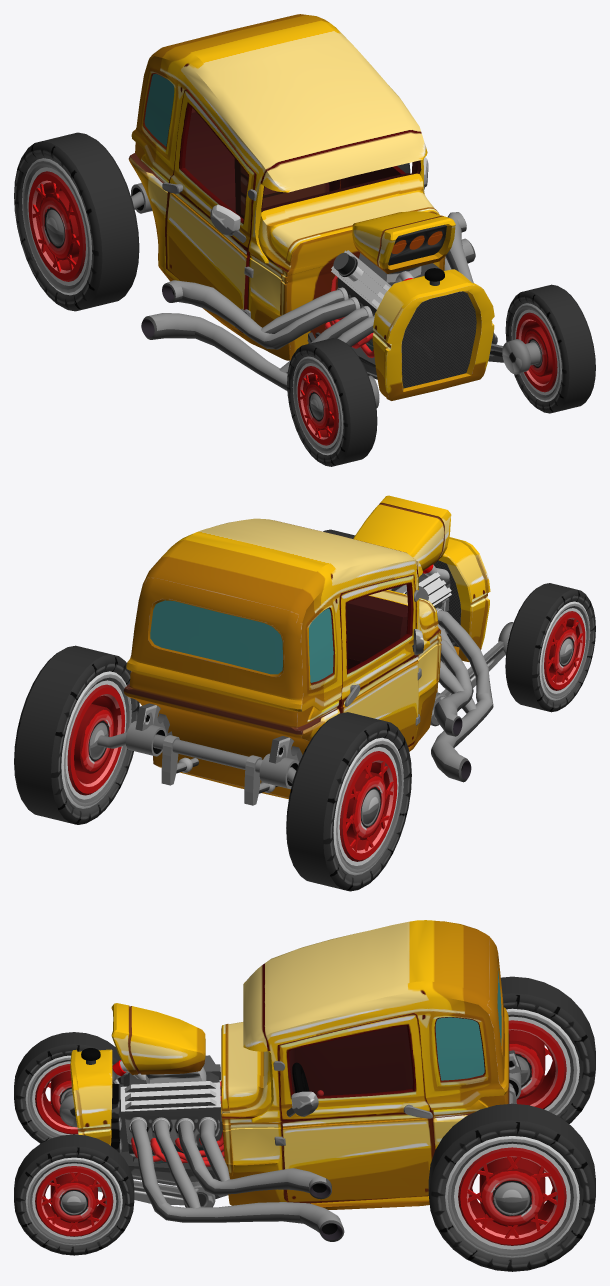
File: HCR2_Hot_Rod.fbx
The picture shows the model from 3 angles, top to bottom: view 1: azimuth 30°, elevation 25°; view 2: azimuth 150°, elevation 25°; view 3: azimuth 270°, elevation 25°; orthographic projection. The views are drawn at different scales.
Visible parts, largest first — view 1: HCR2_HotRod_Body, HCR2_HotRod_RR_Wheel, HCR2_HotRod_Body_Front, HCR2_HotRod_Door_Right, HCR2_HotRod_FR_Wheel, HCR2_HotRod_FL_Wheel, HCR2_HotRod_Exhausts, HCR2_HotRod_Exhausts2, HCR2_HotRod_Interior, HCR2_HotRod_Scoop, HCR2_HotRod_Engine, HCR2_HotRod_Windows (+2 smaller); view 2: HCR2_HotRod_Body, HCR2_HotRod_RR_Wheel, HCR2_HotRod_RL_Wheel, HCR2_HotRod_FR_Wheel, HCR2_HotRod_Windows, HCR2_HotRod_Door_Right, HCR2_HotRod_Rear_Susp, HCR2_HotRod_Scoop, HCR2_HotRod_Body_Front, HCR2_HotRod_Exhausts2, HCR2_HotRod_Interior, HCR2_HotRod_Exhausts (+3 smaller); view 3: HCR2_HotRod_Body, HCR2_HotRod_RL_Wheel, HCR2_HotRod_Door_Left, HCR2_HotRod_FL_Wheel, HCR2_HotRod_RR_Wheel, HCR2_HotRod_Engine, HCR2_HotRod_Exhausts2, HCR2_HotRod_Door_Right, HCR2_HotRod_FR_Wheel, HCR2_HotRod_Scoop, HCR2_HotRod_Body_Front, HCR2_HotRod_Exhausts (+2 smaller).
Boxes of the visible parts, x1=… form: HCR2_HotRod_Body: x1=128, y1=14, x2=445, y2=360; HCR2_HotRod_RR_Wheel: x1=14, y1=132, x2=139, y2=311; HCR2_HotRod_Body_Front: x1=307, y1=268, x2=494, y2=400; HCR2_HotRod_Door_Right: x1=162, y1=89, x2=256, y2=332; HCR2_HotRod_FR_Wheel: x1=287, y1=338, x2=377, y2=466; HCR2_HotRod_FL_Wheel: x1=505, y1=284, x2=595, y2=413; HCR2_HotRod_Exhausts: x1=162, y1=212, x2=473, y2=349; HCR2_HotRod_Exhausts2: x1=141, y1=238, x2=497, y2=390; HCR2_HotRod_Interior: x1=185, y1=108, x2=421, y2=218; HCR2_HotRod_Scoop: x1=352, y1=211, x2=455, y2=273; HCR2_HotRod_Engine: x1=325, y1=250, x2=439, y2=357; HCR2_HotRod_Windows: x1=144, y1=74, x2=174, y2=146; HCR2_HotRod_Body: x1=123, y1=518, x2=441, y2=799; HCR2_HotRod_RR_Wheel: x1=286, y1=712, x2=411, y2=891; HCR2_HotRod_RL_Wheel: x1=14, y1=645, x2=139, y2=824; HCR2_HotRod_FR_Wheel: x1=505, y1=583, x2=595, y2=712; HCR2_HotRod_Windows: x1=150, y1=600, x2=333, y2=682; HCR2_HotRod_Door_Right: x1=337, y1=574, x2=423, y2=747; HCR2_HotRod_Rear_Susp: x1=97, y1=721, x2=299, y2=805; HCR2_HotRod_Scoop: x1=353, y1=495, x2=451, y2=570; HCR2_HotRod_Body_Front: x1=433, y1=537, x2=490, y2=665; HCR2_HotRod_Exhausts2: x1=139, y1=610, x2=493, y2=782; HCR2_HotRod_Interior: x1=346, y1=595, x2=407, y2=669; HCR2_HotRod_Exhausts: x1=434, y1=638, x2=473, y2=736; HCR2_HotRod_Body: x1=221, y1=920, x2=509, y2=1209; HCR2_HotRod_RL_Wheel: x1=428, y1=1103, x2=595, y2=1271; HCR2_HotRod_Door_Left: x1=273, y1=1013, x2=435, y2=1203; HCR2_HotRod_FL_Wheel: x1=14, y1=1134, x2=134, y2=1255; HCR2_HotRod_RR_Wheel: x1=501, y1=976, x2=595, y2=1123; HCR2_HotRod_Engine: x1=111, y1=1055, x2=224, y2=1166; HCR2_HotRod_Exhausts2: x1=131, y1=1120, x2=344, y2=1241; HCR2_HotRod_Door_Right: x1=295, y1=1025, x2=412, y2=1095; HCR2_HotRod_FR_Wheel: x1=14, y1=1032, x2=123, y2=1143; HCR2_HotRod_Scoop: x1=111, y1=1003, x2=205, y2=1074; HCR2_HotRod_Body_Front: x1=70, y1=1048, x2=228, y2=1198; HCR2_HotRod_Exhausts: x1=178, y1=1088, x2=331, y2=1199.
Bounding box in the file's own units: 282 × 217 × 455.
4 materials, 2 textured.
